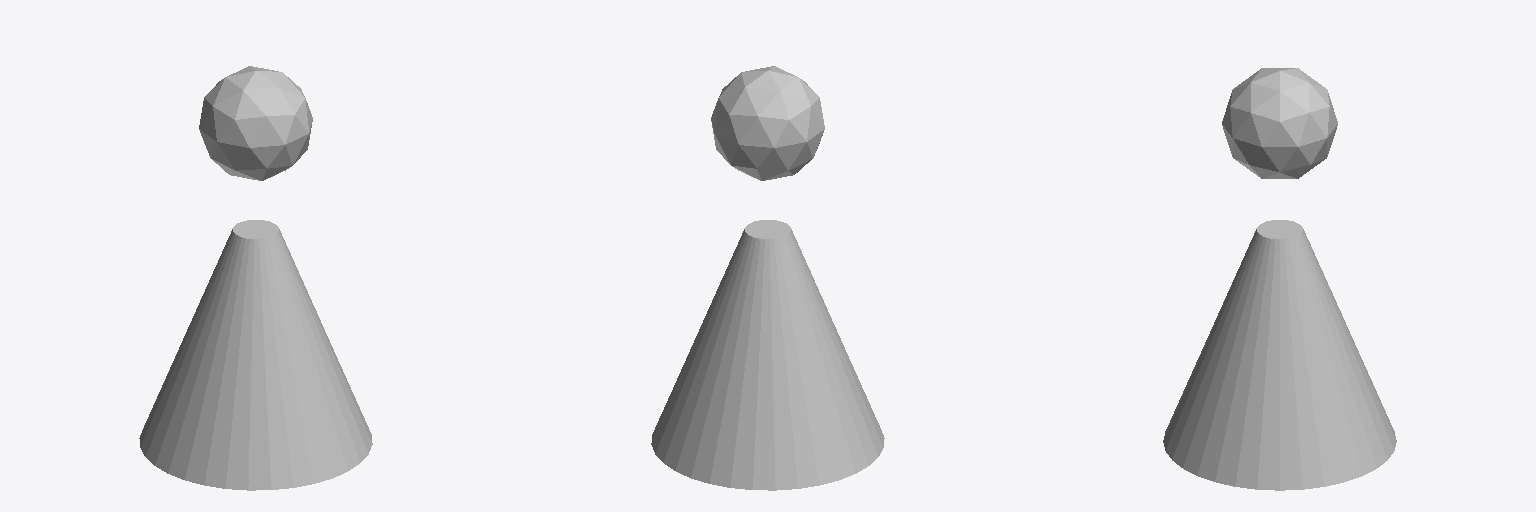
Rendered from egnr-ygrk.obj.
3 renders of one model, left to right at view 1: azimuth 30°, elevation 25°; view 2: azimuth 150°, elevation 25°; view 3: azimuth 270°, elevation 25°, orthographic.
Parts seen in each view (by area): view 1: Cylinder; view 2: Cylinder; view 3: Cylinder.
Boxes of the visible parts, x1=… form: Cylinder: x1=139, y1=66, x2=372, y2=490; Cylinder: x1=651, y1=66, x2=884, y2=490; Cylinder: x1=1163, y1=68, x2=1396, y2=490.
Size of the model in its own units: 2 by 3.5 by 2.